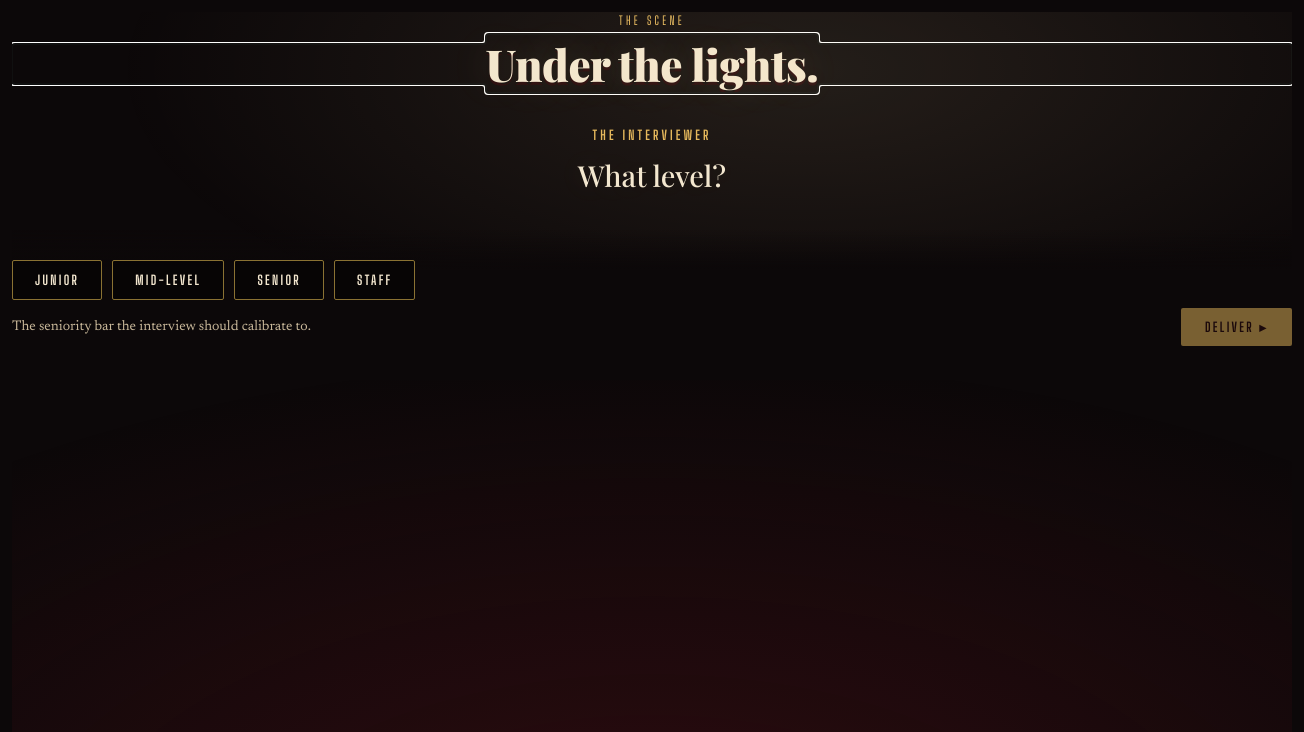
Test: InterviewScreen › disables the level Deliver button once a level is delivered
Click the button "staff". click: {"x": 375, "y": 280}
box: [334,260,416,300]
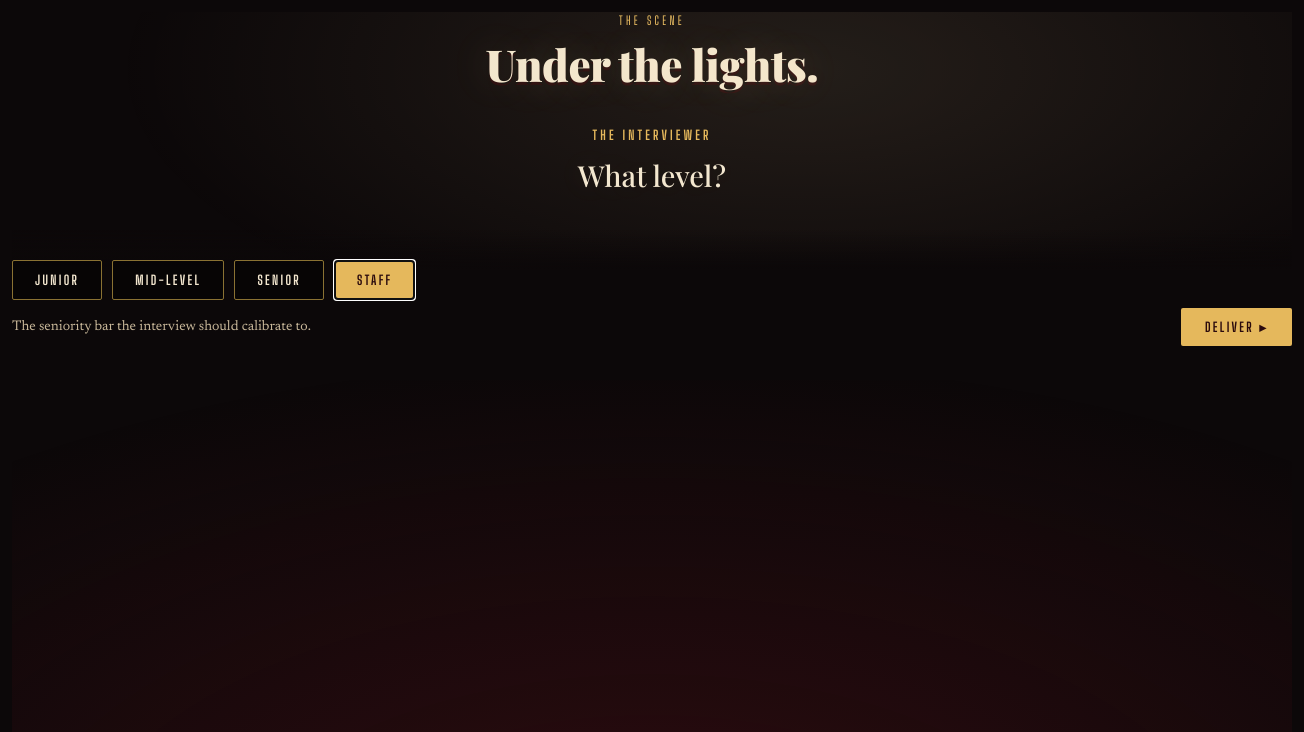
Double-click the button "Deliver ▸" at {"x": 1236, "y": 327}, box [1181,308,1292,346]
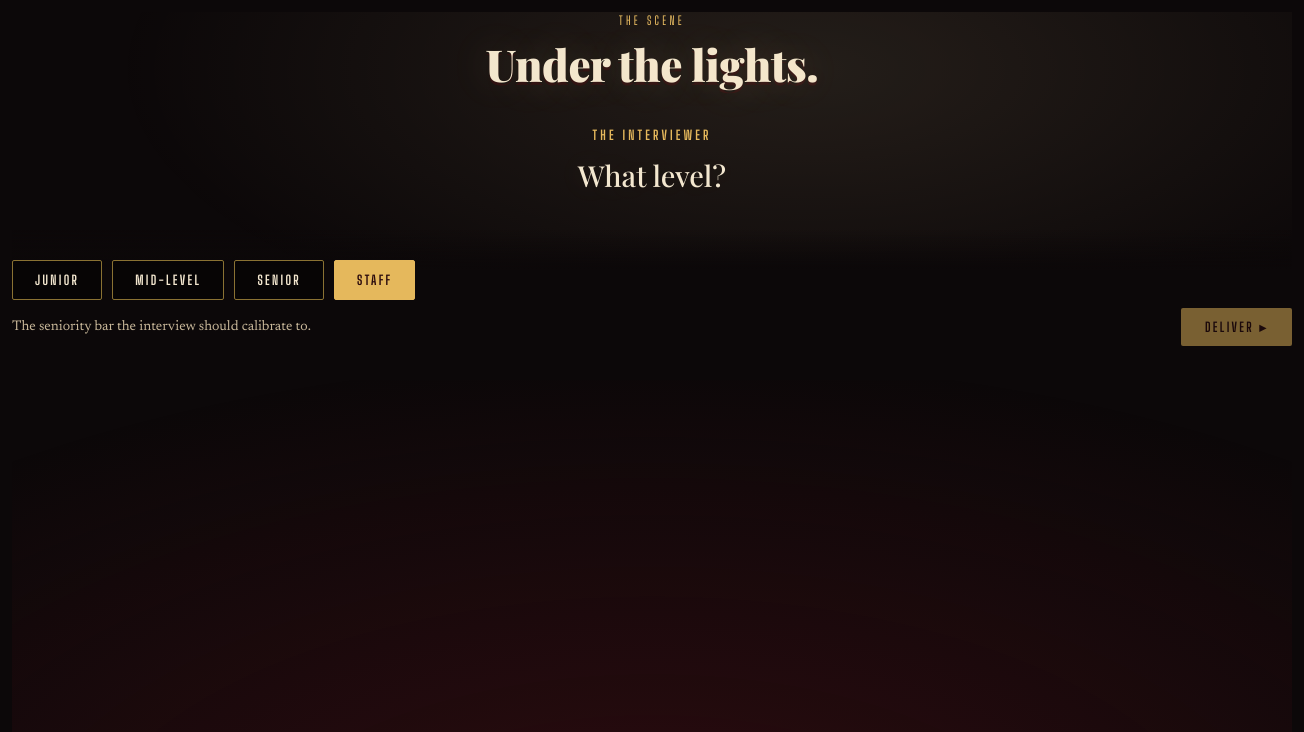
Result: the button "Deliver ▸" is disabled at [1181,308,1292,346]
